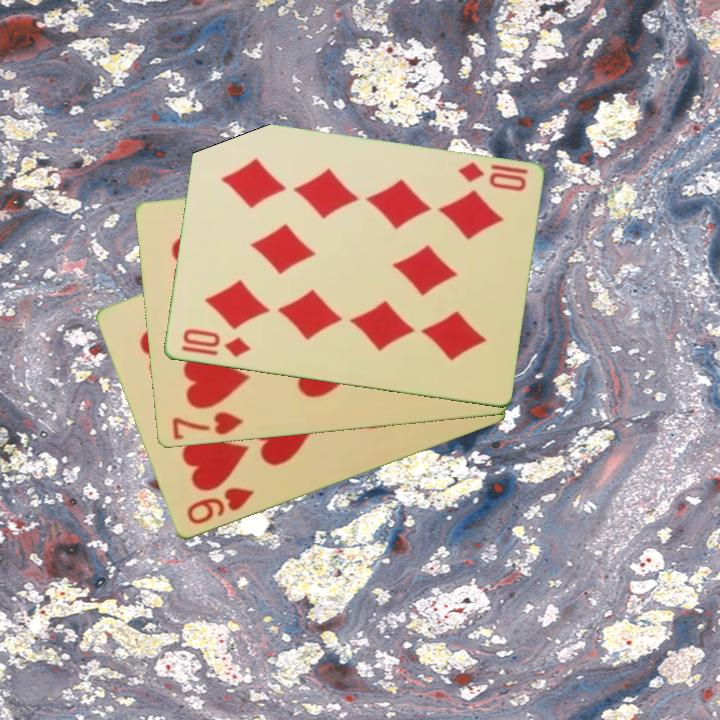10d: (454, 158, 529, 195), (179, 325, 252, 361)
7h: (168, 409, 246, 443)
9h: (183, 484, 257, 528)
